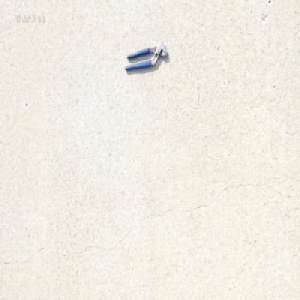Pliers: (123, 41, 168, 71)
